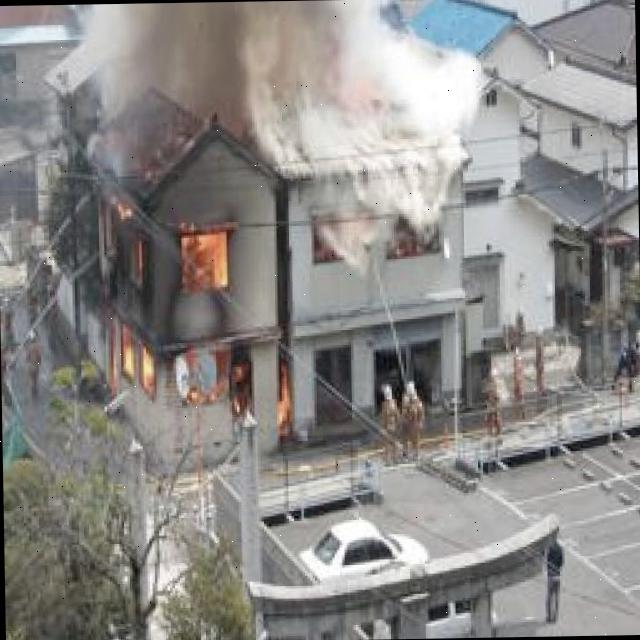fire: (102, 198, 304, 444)
